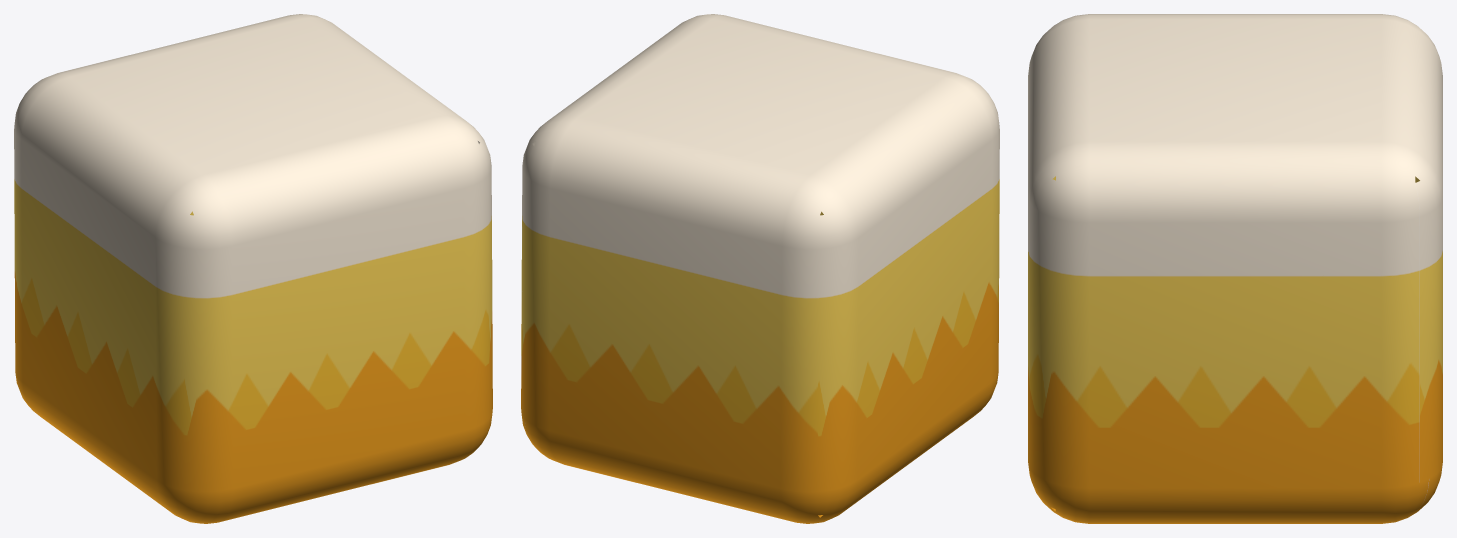
Rendered from SPblock_CandycornWerewolf.fbx.
3 renders of one model, left to right at view 1: azimuth 30°, elevation 25°; view 2: azimuth 150°, elevation 25°; view 3: azimuth 270°, elevation 25°, orthographic. The views are drawn at different scales.
Parts seen in each view (by area): view 1: 큐브; view 2: 큐브; view 3: 큐브.
Boxes of the visible parts, bbox=[...] form: 큐브: bbox=[14, 14, 492, 523]; 큐브: bbox=[521, 14, 999, 523]; 큐브: bbox=[1028, 14, 1442, 523].
Size of the model in its own units: 30513 by 30513 by 30398.
